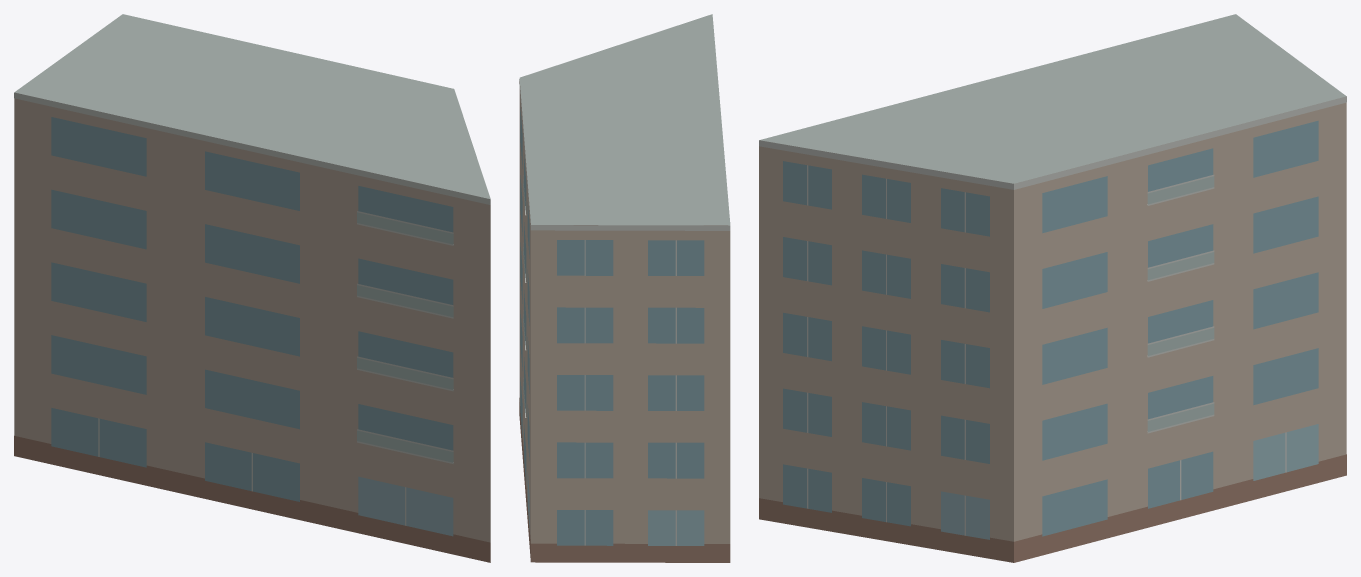
Rendered from survey-upis-32764570.glb.
3 views of the same model, side by side, from view 1: azimuth 30°, elevation 25°; view 2: azimuth 150°, elevation 25°; view 3: azimuth 270°, elevation 25° (orthographic). The views are drawn at different scales.
Parts seen in each view (by area): view 1: survey-upis-32764570.tmp; view 2: survey-upis-32764570.tmp; view 3: survey-upis-32764570.tmp.
Part boxes in pixels (box(x1,y1,x2,y2)): survey-upis-32764570.tmp: box(14, 14, 490, 562); survey-upis-32764570.tmp: box(519, 14, 730, 562); survey-upis-32764570.tmp: box(759, 14, 1346, 562).
Size of the model in its own units: 14.46 by 15.05 by 21.15.
